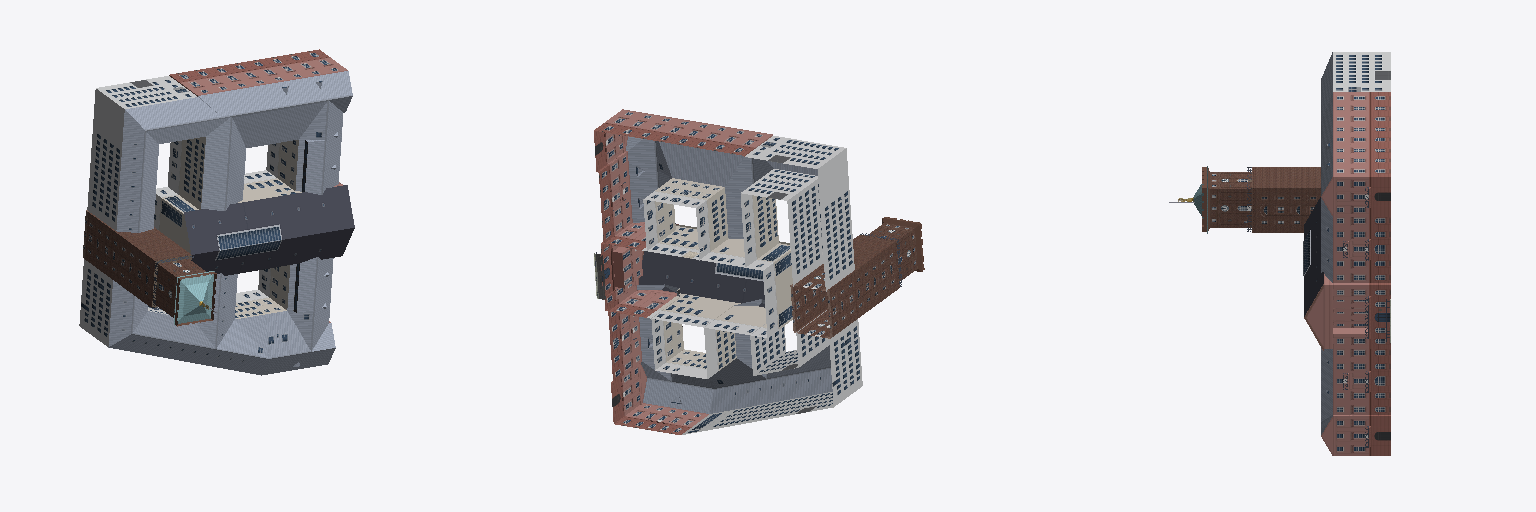
3 views of the same model, side by side, from view 1: azimuth 30°, elevation 25°; view 2: azimuth 150°, elevation 25°; view 3: azimuth 270°, elevation 25° (orthographic).
Parts seen in each view (by area): view 1: S; view 2: S; view 3: S.
Boxes of the visible parts, x1=… form: S: x1=79, y1=49, x2=354, y2=375; S: x1=594, y1=109, x2=924, y2=434; S: x1=1169, y1=52, x2=1390, y2=455.
Size of the model in its own units: 66.11 by 79.74 by 52.4.
Materials: 1 (1 with a texture image).